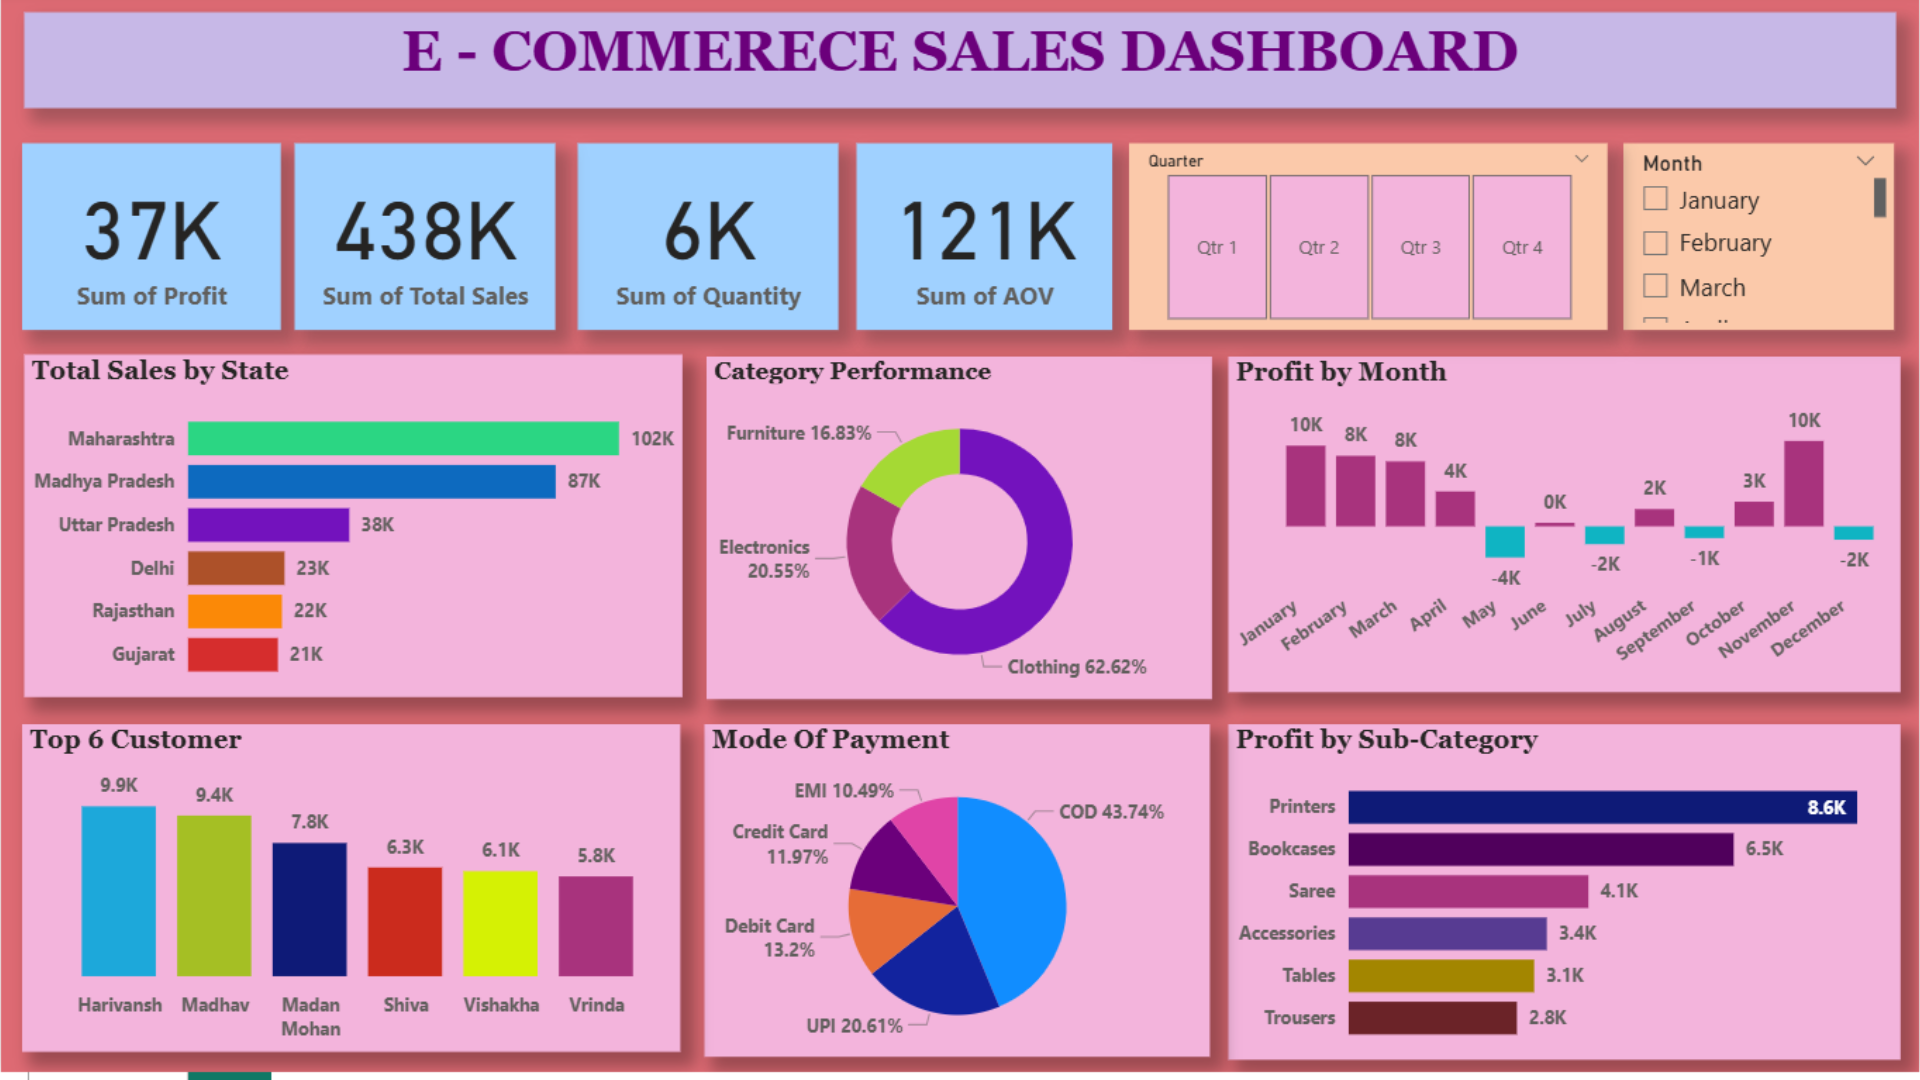

Layout of this report page (visuals, bound fields, positions):
{"tool":"powerbi","page":{"name":"Page 1","canvas":[1280,720],"ordinal":0},"visuals":[{"type":"textbox","box":[15.1,13.2,1249.1,64.3],"z":0},{"type":"card","fields":{"Values":["Details.Profit"]},"box":[14.4,100.7,172.5,124.6],"z":1000},{"type":"card","fields":{"Values":["Details.Quantity"]},"box":[385,100.7,174.1,124.6],"z":2000},{"type":"card","fields":{"Values":["Details.Total Sales"]},"box":[196.5,100.7,174.1,124.6],"z":3000},{"type":"card","fields":{"Values":["Details.AOV"]},"box":[570.4,100.7,171,124.6],"z":4000},{"type":"clusteredBarChart","title":"Total Sales by State","fields":{"Category":["Orders.State"],"Y":["Details.Total Sales"]},"box":[16,241.2,439.4,228.5],"z":5000},{"type":"donutChart","title":" Category Performance","fields":{"Y":["Details.Quantity"],"Category":["Details.Category"]},"box":[471.3,242.8,337.1,228.5],"z":6000},{"type":"clusteredBarChart","title":"Profit by Sub-Category","fields":{"Y":["Details.Profit"],"Category":["Details.Sub-Category"]},"box":[819.6,487.3,448.9,223.7],"z":7000},{"type":"pieChart","title":"Mode Of Payment","fields":{"Y":["Details.Quantity"],"Category":["Details.PaymentMode"]},"box":[469.7,487.3,337.1,222.1],"z":8000},{"type":"clusteredColumnChart","title":"Top 6 Customer","fields":{"Category":["Orders.CustomerName"],"Y":["Details.Total Sales"]},"box":[14.4,487.3,439.4,218.9],"z":9000},{"type":"clusteredColumnChart","title":"Profit by Month","fields":{"Category":["Orders.Order Date.Variation.Date Hierarchy.Month"],"Y":["Details.Profit"]},"box":[819.6,242.8,448.9,223.7],"z":10000},{"type":"slicer","fields":{"Values":["Orders.Order Date.Variation.Date Hierarchy.Month"]},"box":[1083.2,100.7,180.5,124.6],"z":12000},{"type":"slicer","fields":{"Values":["Orders.Order Date.Variation.Date Hierarchy.Quarter"]},"box":[752.5,100.7,319.5,124.6],"z":12001}]}

Visuals, with their boxes in screenshot pixels (x1, y1, x2, y2), scaled from the page's 1280x720 canvas onto the 1920x1080 screenshot:
textbox: {"left": 23, "top": 20, "right": 1896, "bottom": 116}
card - Details.Profit: {"left": 22, "top": 151, "right": 280, "bottom": 338}
card - Details.Quantity: {"left": 578, "top": 151, "right": 839, "bottom": 338}
card - Details.Total Sales: {"left": 295, "top": 151, "right": 556, "bottom": 338}
card - Details.AOV: {"left": 856, "top": 151, "right": 1112, "bottom": 338}
"Total Sales by State" clusteredBarChart: {"left": 24, "top": 362, "right": 683, "bottom": 705}
" Category Performance" donutChart: {"left": 707, "top": 364, "right": 1213, "bottom": 707}
"Profit by Sub-Category" clusteredBarChart: {"left": 1229, "top": 731, "right": 1903, "bottom": 1066}
"Mode Of Payment" pieChart: {"left": 705, "top": 731, "right": 1210, "bottom": 1064}
"Top 6 Customer" clusteredColumnChart: {"left": 22, "top": 731, "right": 681, "bottom": 1059}
"Profit by Month" clusteredColumnChart: {"left": 1229, "top": 364, "right": 1903, "bottom": 700}
slicer - Orders.Order Date.Variation.Date Hierarchy.Month: {"left": 1625, "top": 151, "right": 1896, "bottom": 338}
slicer - Orders.Order Date.Variation.Date Hierarchy.Quarter: {"left": 1129, "top": 151, "right": 1608, "bottom": 338}
